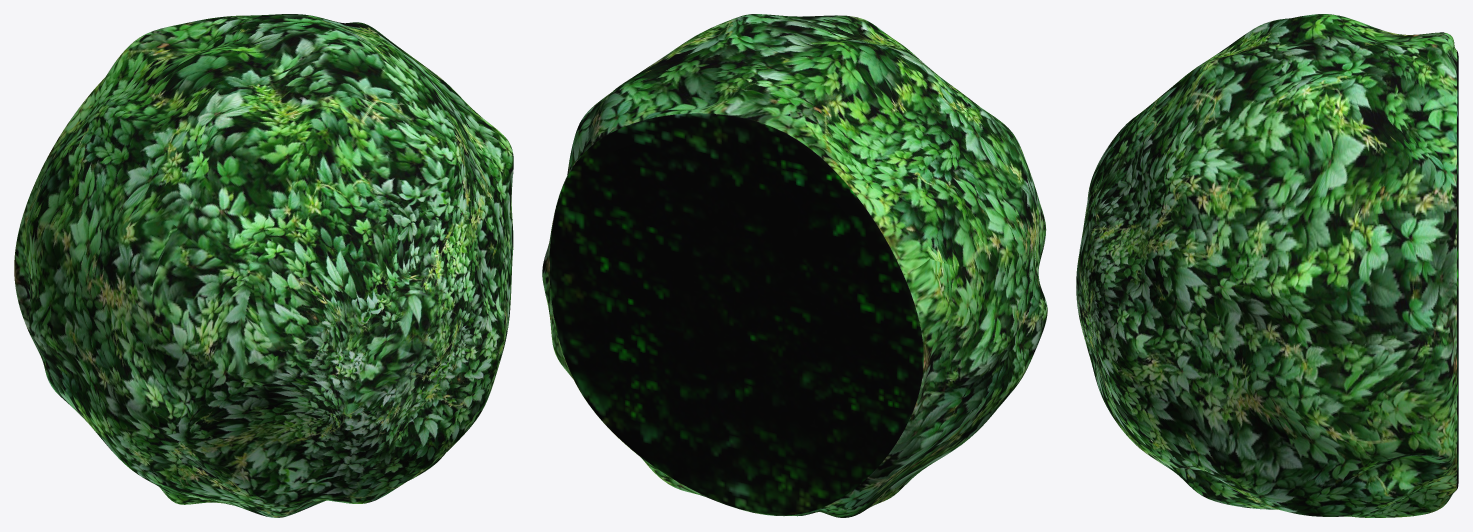
The model's file is haybale.glb.
The picture shows the model from 3 angles, left to right: view 1: azimuth 30°, elevation 25°; view 2: azimuth 150°, elevation 25°; view 3: azimuth 270°, elevation 25°; orthographic projection.
Visible parts, largest first — view 1: 10453_Round_Box_Hedge_v1_Iteration3; view 2: 10453_Round_Box_Hedge_v1_Iteration3; view 3: 10453_Round_Box_Hedge_v1_Iteration3.
Boxes of the visible parts, x1,y1,x2,y2 form: 10453_Round_Box_Hedge_v1_Iteration3: (14, 14, 513, 517); 10453_Round_Box_Hedge_v1_Iteration3: (542, 14, 1047, 517); 10453_Round_Box_Hedge_v1_Iteration3: (1076, 14, 1458, 517).
Size of the model in its own units: 145 by 146 by 110.
Materials: 1 (1 with a texture image).
